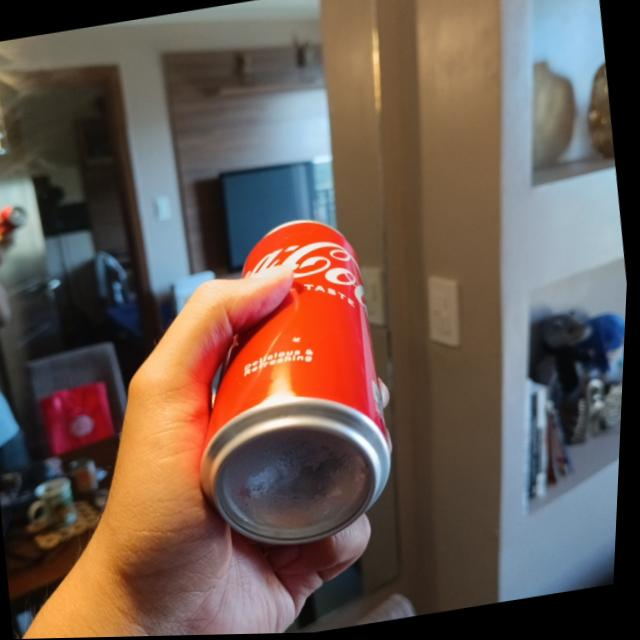coke: (169, 213, 409, 560)
